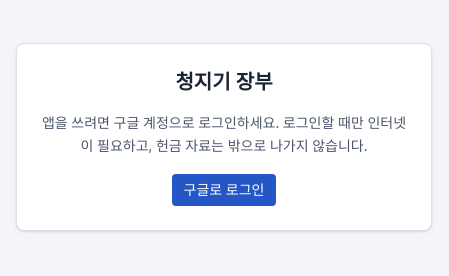
AuthGate › 로그인 중에는 [취소]가 나오고 누르면 main에 알린다
The image size is (449, 276).
What coordinates should you click on to do the following:
click the button "구글로 로그인"
I would click on:
 (224, 190)
Its box is [172,174,276,206].
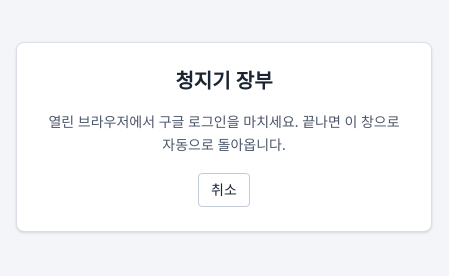
What coordinates should you click on to do the following:
click the button "취소"
I would click on:
 (224, 190)
Its box is [198,173,250,207].
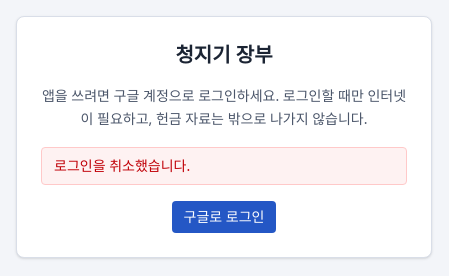
Expected: the message reads "로그인을 취소했습니다.", [54,156,190,175]
Expected: the button "구글로 로그인" is shown, [172,201,276,233]
